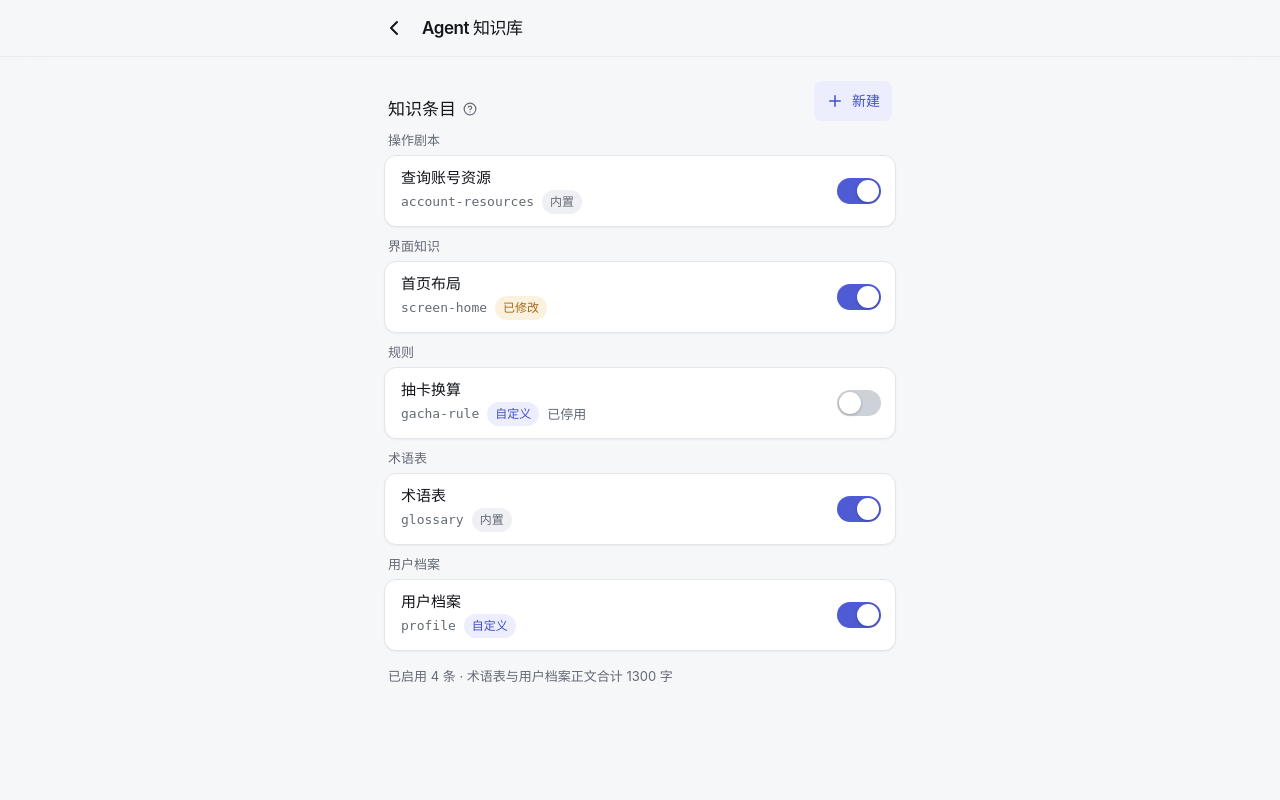
Test case: knowledge settings section › opens the editor from a row
What coordinates should you click on to do the following:
click the link "首页布局 screen-home 已修改"
I would click on:
 (474, 297)
Its box is [401, 274, 547, 320].
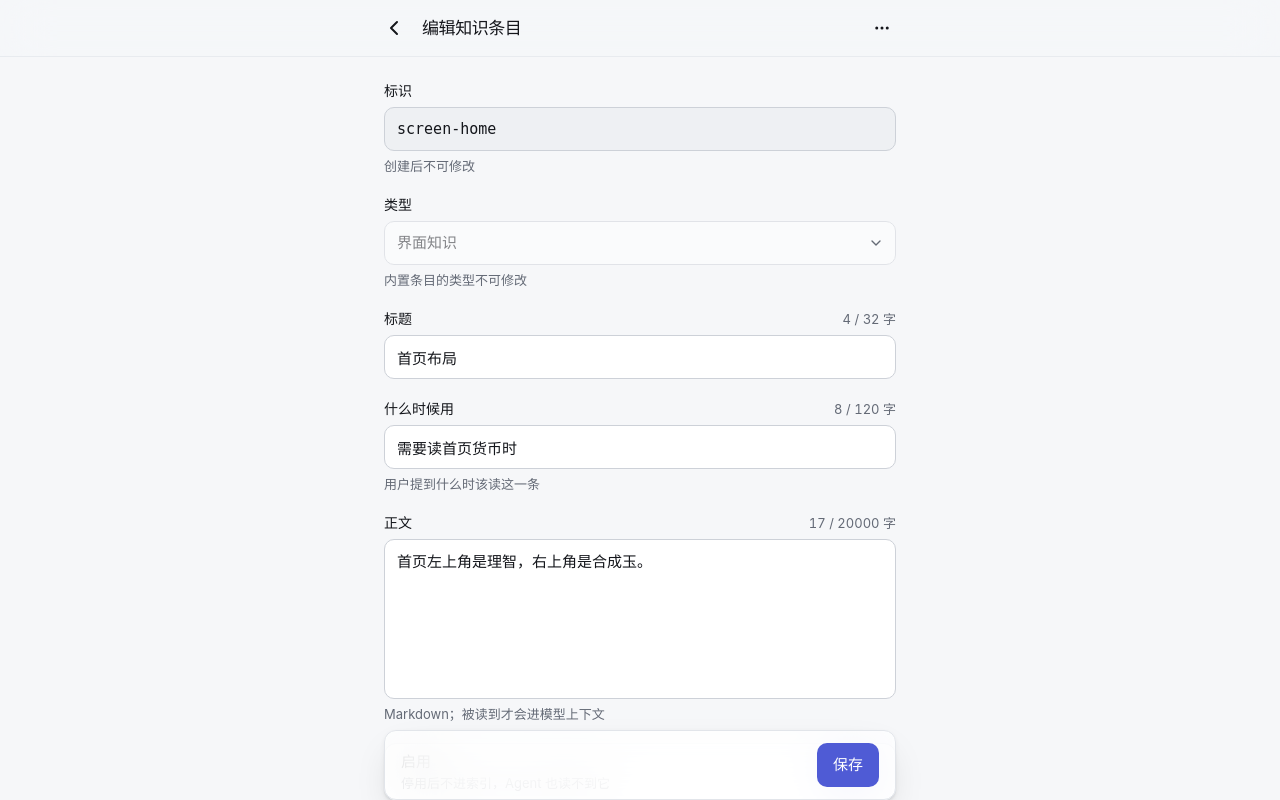
expect the heading "编辑知识条目" is shown: met, box [422, 18, 522, 38]
